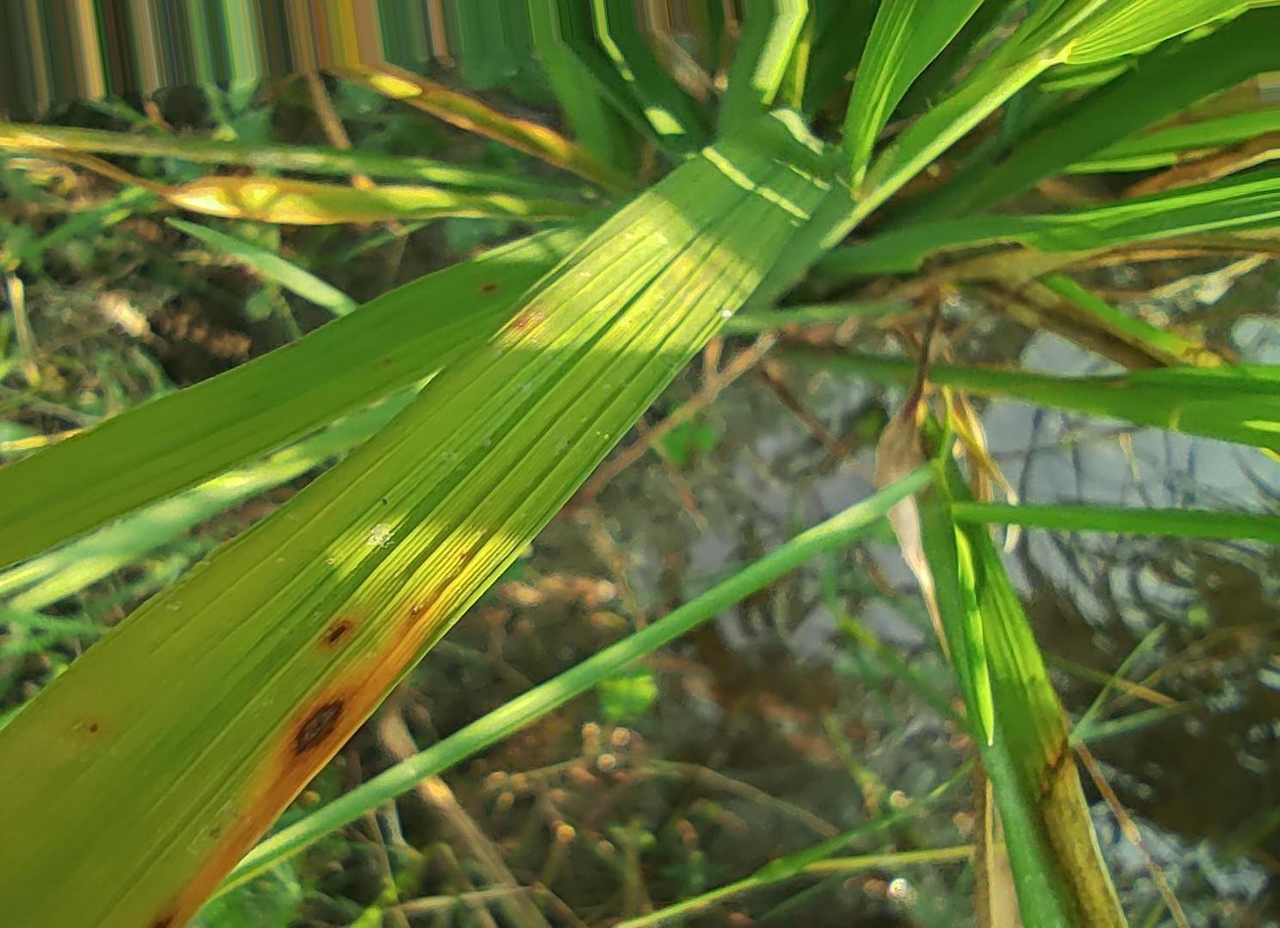LEAF BLAST: (295, 701, 343, 753)
